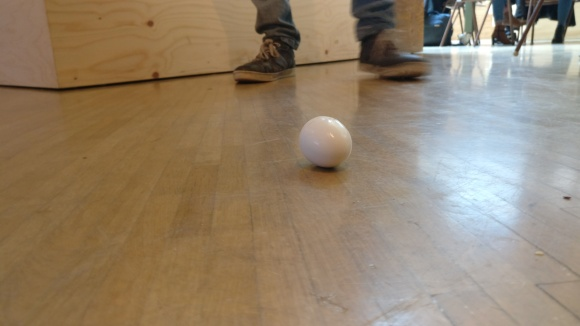egg: (296, 113, 354, 169)
